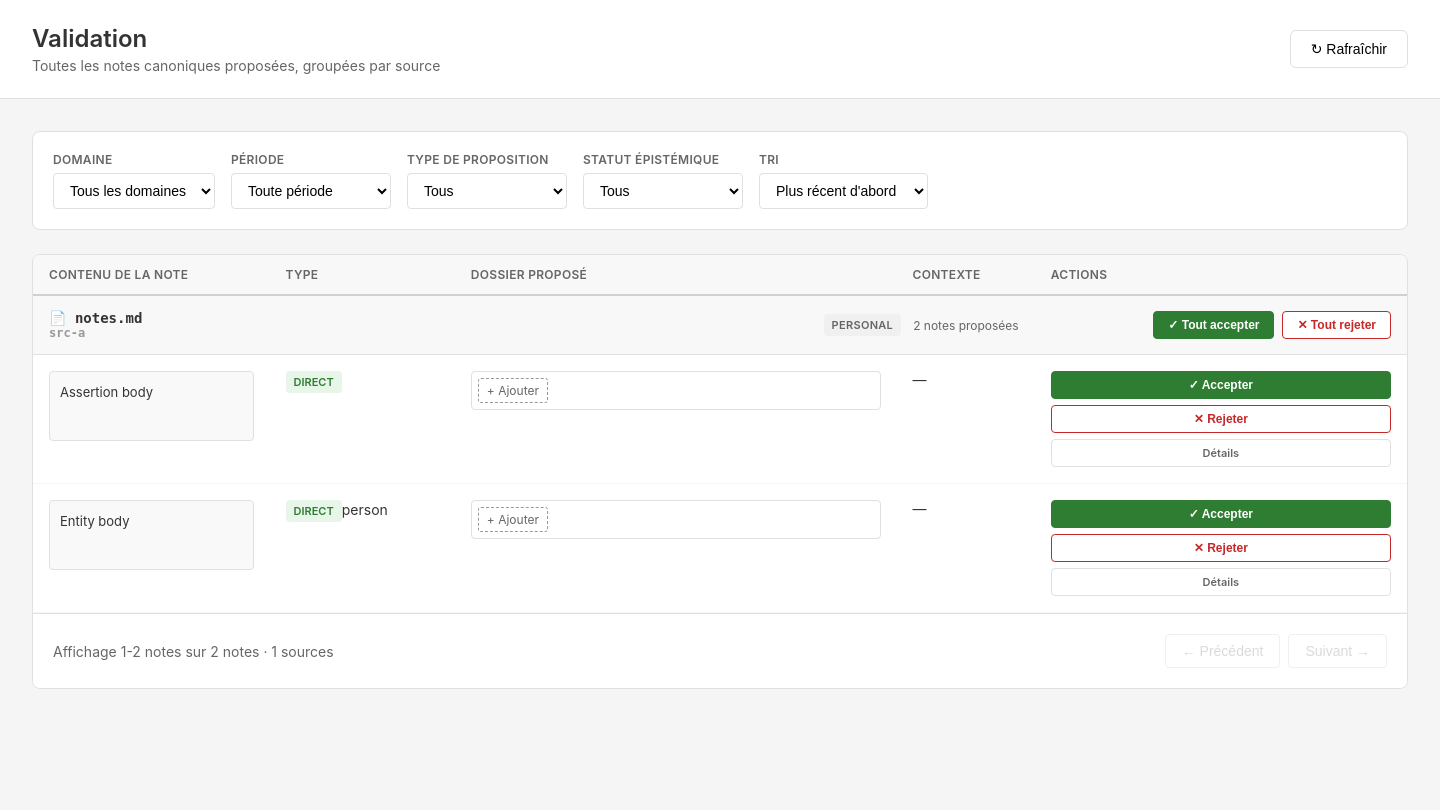
Scenario: Validation › TASK-015 AC4: Type de proposition filter hides notes of other types and restores them when reset to Tous
Expected: the text "Assertion body" is shown, [49,371,254,441]
Expected: the text "Entity body" is shown, [49,500,254,570]
Select "Assertion" in the dropdown labelled "Type de proposition" at (487, 191), box [407,173,567,209]
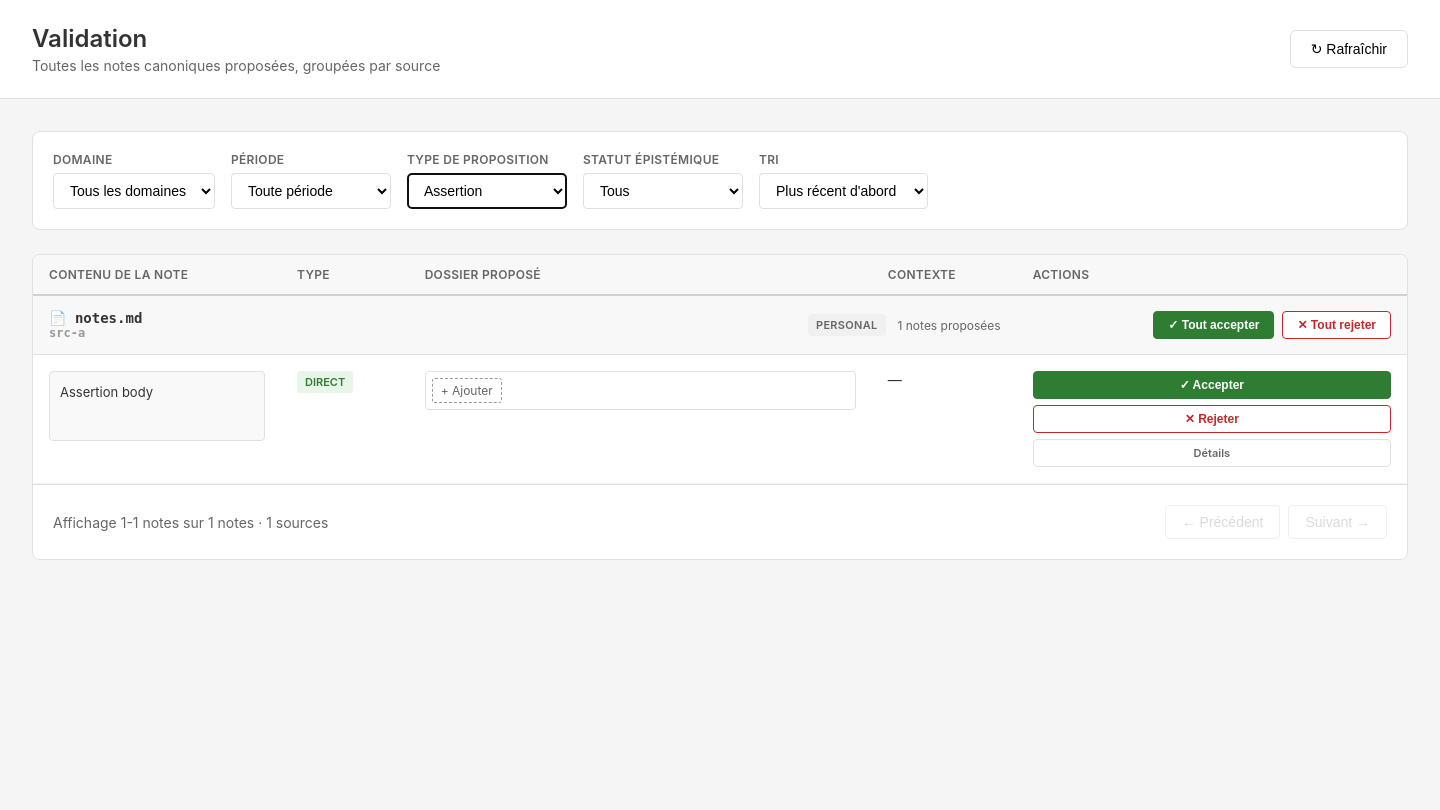
Expected: the text "Assertion body" is shown, [49,371,265,441]
Result: the text "Entity body" is gone
Select "Tous" in the dropdown labelled "Type de proposition" at (487, 191), box [407,173,567,209]
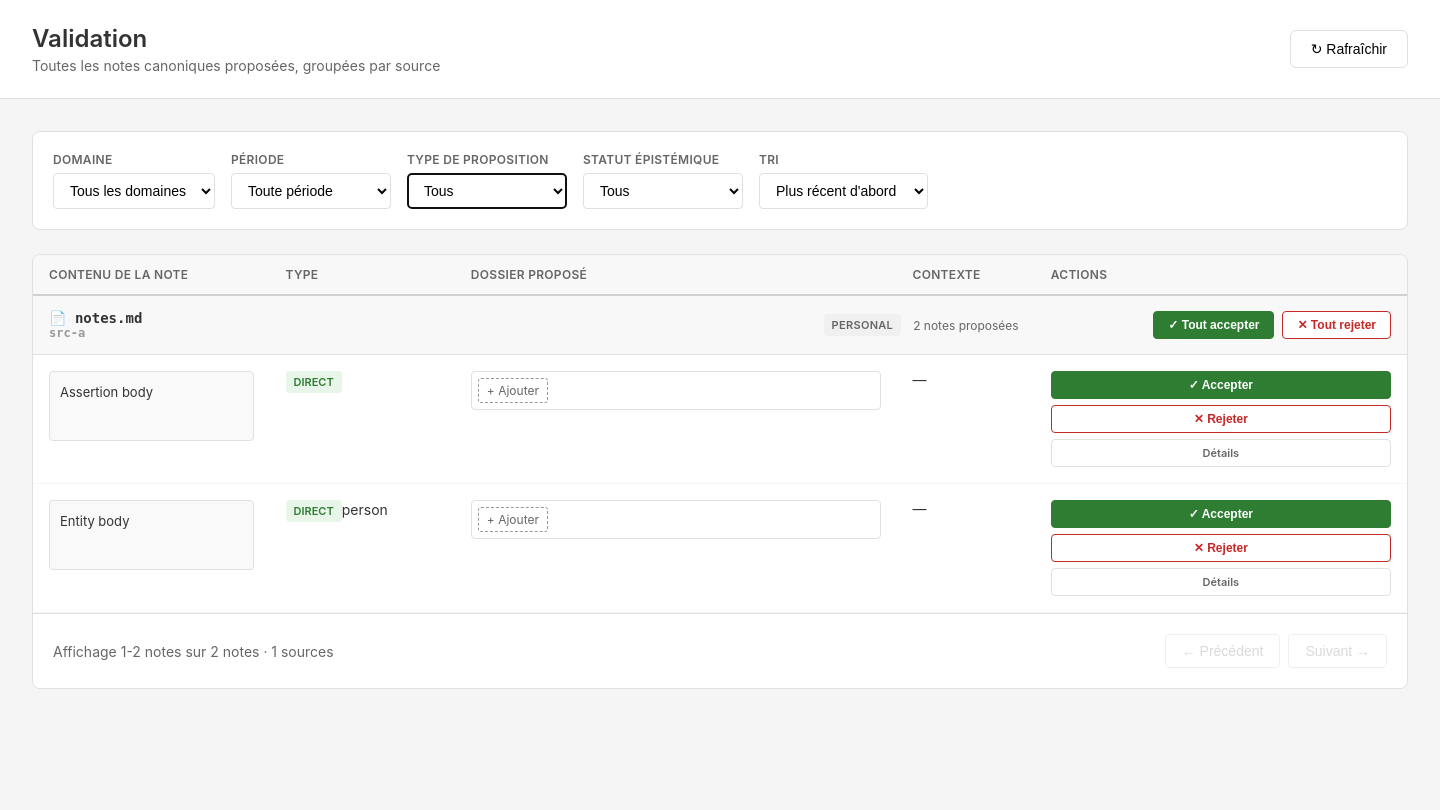
Expected: the text "Assertion body" is shown, [49,371,254,441]
Result: the text "Entity body" is shown at [49,500,254,570]
